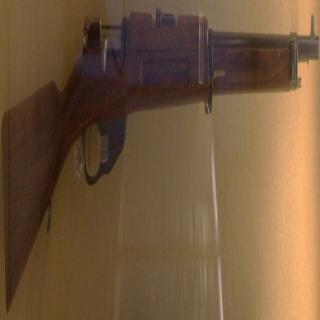gun: (2, 10, 318, 308)
